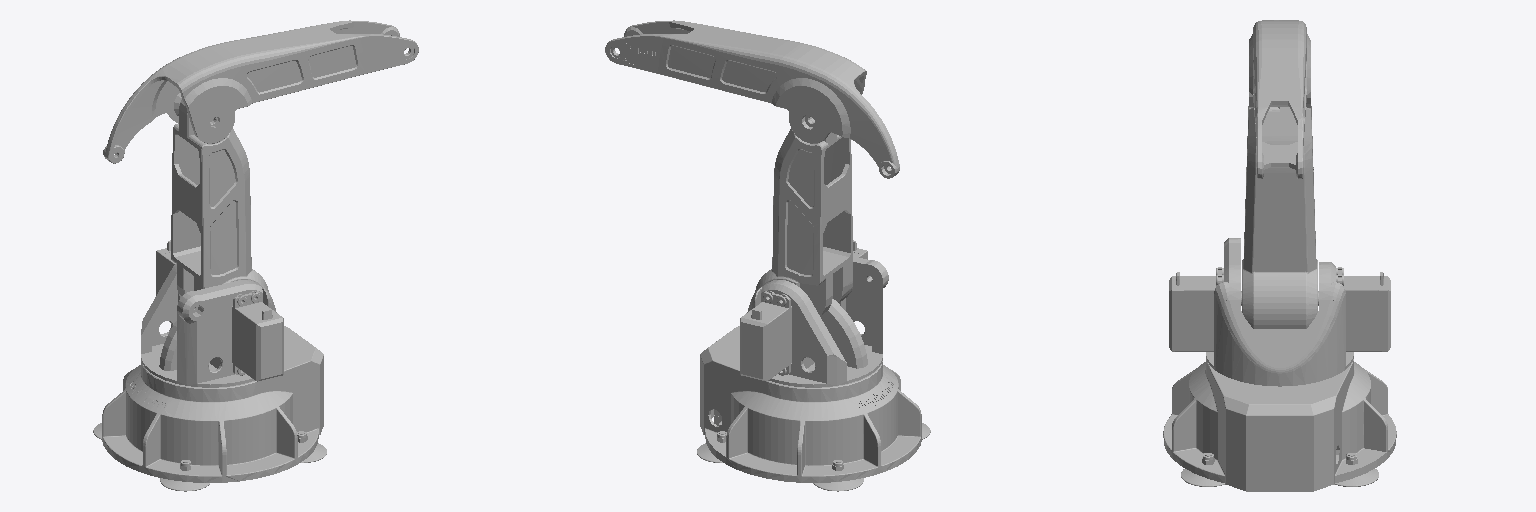
URDF robot description (ros_arm):
<robot name="ros_arm">
    <link name="base_footprint">
        <visual>
            <origin xyz="0 0 0" rpy="0 0 0" />
            <geometry>
                <box size="0.001 0.001 0.001" />
            </geometry>
        </visual>
    </link>
    <link name="base_link">
        <inertial>
            <origin xyz="0.011521 4.7219E-05 0.023756" rpy="0 0 0" />
            <mass value="0.89169" />
            <inertia ixx="0.29936" ixy="-0.00053" ixz="-0.00049" iyy="0.31777" iyz="-0.00016" izz="0.39358" />
        </inertial>
        <visual>
            <origin xyz="0 0 0" rpy="0 0 0" />
            <geometry>
                <mesh filename="package://ros_arm/meshes/base_link.STL" />
            </geometry>
            <material name="">
                <color rgba="0.75294 0.75294 0.75294 1" />
            </material>
        </visual>
        <collision>
            <origin xyz="0 0 0" rpy="0 0 0" />
            <geometry>
                <mesh filename="package://ros_arm/meshes/base_link.STL" />
            </geometry>
        </collision>
    </link>
    <joint name="base_footprint_joint" type="fixed">
        <origin xyz="0 0 0" rpy="0 0 0" />
        <parent link="base_footprint" />
        <child link="base_link" />
    </joint>
    <link name="link1">
        <inertial>
            <origin xyz="0.0036202 -0.0010498 0.024802" rpy="0 0 0" />
            <mass value="0.019637" />
            <inertia ixx="0.16027" ixy="0.00404" ixz="0.00420" iyy="0.15719" iyz="-0.00927" izz="0.11809" />
        </inertial>
        <visual>
            <origin xyz="0 0 0" rpy="0 0 0" />
            <geometry>
                <mesh filename="package://ros_arm/meshes/link1.STL" />
            </geometry>
            <material name="">
                <color rgba="0.75294 0.75294 0.75294 1" />
            </material>
        </visual>
        <collision>
            <origin xyz="0 0 0" rpy="0 0 0" />
            <geometry>
                <mesh filename="package://ros_arm/meshes/link1.STL" />
            </geometry>
        </collision>
    </link>
    <joint name="joint1" type="revolute">
        <origin xyz="0 0 0.0525" rpy="0 0 0" />
        <parent link="base_link" />
        <child link="link1" />
        <axis xyz="0 0 1" />
        <limit lower="-1.57" upper="1.57" effort="100" velocity="1" />
    </joint>
    <link name="link2">
        <inertial>
            <origin xyz="-0.0012277 0.019422 0.050687" rpy="0 0 0" />
            <mass value="0.0098215" />
            <inertia ixx="0.50654" ixy="-0.00217" ixz="-0.02848" iyy="0.47224" iyz="0.10558" izz="0.07410" />
        </inertial>
        <visual>
            <origin xyz="0 0 0" rpy="0 0 0" />
            <geometry>
                <mesh filename="package://ros_arm/meshes/link2.STL" />
            </geometry>
            <material name="">
                <color rgba="0.75294 0.75294 0.75294 1" />
            </material>
        </visual>
        <collision>
            <origin xyz="0 0 0" rpy="0 0 0" />
            <geometry>
                <mesh filename="package://ros_arm/meshes/link2.STL" />
            </geometry>
        </collision>
    </link>
    <joint name="joint2" type="revolute">
        <origin xyz="0.007 -0.02041 0.043" rpy="0 0 0" />
        <parent link="link1" />
        <child link="link2" />
        <axis xyz="0 1 0" />
        <limit lower="-1.57" upper="1.57" effort="100" velocity="1" />
    </joint>
    <link name="link3">
        <inertial>
            <origin xyz="0.041526 0.021667 0.017875" rpy="0 0 0" />
            <mass value="0.0067019" />
            <inertia ixx="0.07607" ixy="0.05334" ixz="0.00001" iyy="0.33430" iyz="0.2456" izz="0.34237" />
        </inertial>
        <visual>
            <origin xyz="0 0 0" rpy="0 0 0" />
            <geometry>
                <mesh filename="package://ros_arm/meshes/link3.STL" />
            </geometry>
            <material name="">
                <color rgba="0.75294 0.75294 0.75294 1" />
            </material>
        </visual>
        <collision>
            <origin xyz="0 0 0" rpy="0 0 0" />
            <geometry>
                <mesh filename="package://ros_arm/meshes/link3.STL" />
            </geometry>
        </collision>
    </link>
    <joint name="joint3" type="revolute">
        <origin xyz="-0.014 0 0.13427" rpy="0 0 0" />
        <parent link="link2" />
        <child link="link3" />
        <axis xyz="0 1 0" />
        <limit lower="-1.57" upper="1.57" effort="100" velocity="1" />
    </joint>
    <transmission name="trans_joint1">
        <type>transmission_interface/SimpleTransmission</type>
        <joint name="joint1">
            <hardwareInterface>hardware_interface/EffortJointInterface</hardwareInterface>
        </joint>
        <actuator name="joint1_motor">
            <hardwareInterface>hardware_interface/EffortJointInterface</hardwareInterface>
            <mechanicalReduction>1</mechanicalReduction>
        </actuator>
    </transmission>
    <transmission name="trans_joint2">
        <type>transmission_interface/SimpleTransmission</type>
        <joint name="joint2">
            <hardwareInterface>hardware_interface/EffortJointInterface</hardwareInterface>
        </joint>
        <actuator name="joint2_motor">
            <hardwareInterface>hardware_interface/EffortJointInterface</hardwareInterface>
            <mechanicalReduction>1</mechanicalReduction>
        </actuator>
    </transmission>
    <transmission name="trans_joint3">
        <type>transmission_interface/SimpleTransmission</type>
        <joint name="joint3">
            <hardwareInterface>hardware_interface/EffortJointInterface</hardwareInterface>
        </joint>
        <actuator name="joint3_motor">
            <hardwareInterface>hardware_interface/EffortJointInterface</hardwareInterface>
            <mechanicalReduction>1</mechanicalReduction>
        </actuator>
    </transmission>
    <!-- <gazebo>
        <plugin name="gazebo_ros_control">
            <robotNamespace>/</robotNamespace>
        </plugin>
    </gazebo> -->
    <gazebo>
      <plugin name="gazebo_ros_control" filename="libgazebo_ros_control.so">
        <robotNamespace>/</robotNamespace>
      </plugin>
    </gazebo>
</robot>

--- Facts derived from the render (not from the file) ---
The picture shows the robot from 3 angles, left to right: view 1: azimuth 30°, elevation 25°; view 2: azimuth 150°, elevation 25°; view 3: azimuth 270°, elevation 25°; orthographic projection.
Model ros_arm with 5 links and 4 joints (3 revolute, 1 fixed), rooted at base_footprint, posed every joint at zero.
Visible links, largest first — view 1: base_link, link3, link1, link2; view 2: base_link, link3, link1, link2; view 3: base_link, link1, link2, link3.
Link boxes in pixels (x1,y1,x2,y2): base_link: (93,326,326,491); link3: (103,20,418,163); link1: (141,240,283,387); link2: (171,100,268,297); base_link: (697,326,930,491); link3: (605,20,899,178); link1: (740,240,888,387); link2: (755,117,852,315); base_link: (1163,359,1396,491); link1: (1169,238,1390,386); link2: (1242,106,1317,328); link3: (1249,20,1310,178).
Bounding box of the posed robot: 0.2142 × 0.138 × 0.2714 m (x, y, z).
Meshes: 4 distinct files referenced, 4 mesh visuals loaded (4 binary STL).